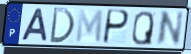A: (20, 7, 49, 43)
D: (48, 7, 76, 45)
M: (75, 8, 105, 45)
N: (154, 10, 185, 48)
P: (101, 8, 131, 46)
Q: (131, 10, 155, 47)
